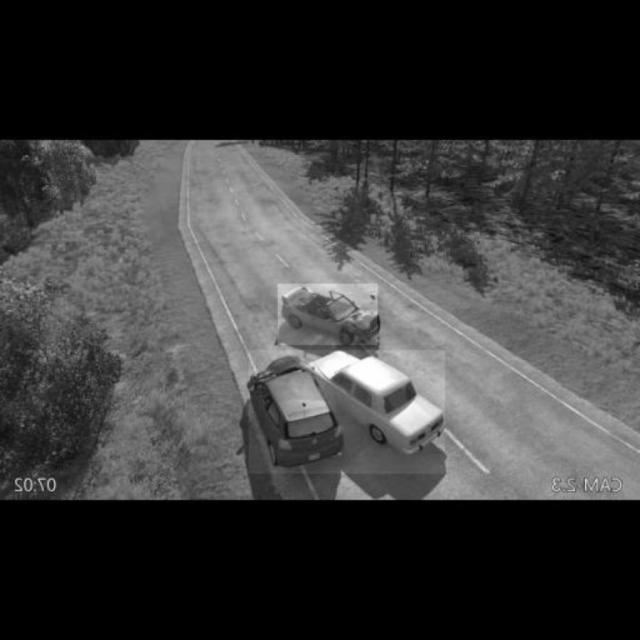accident: (249, 350, 445, 474)
vehicle: (278, 284, 379, 345)
